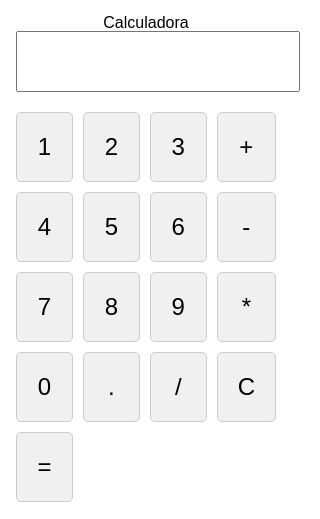
Scenario: Calculator Component › handles number button clicks
The width and height of the screenshot is (320, 519).
Step 1. Click the button "1" → (44, 147), box [16,112,73,182]
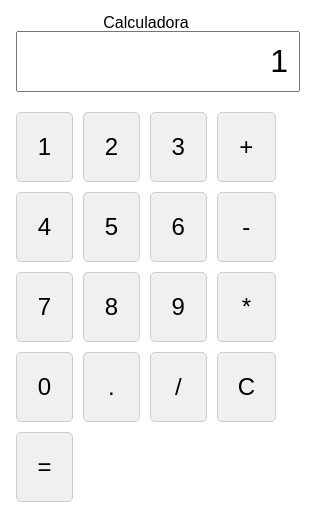
Expected: the field holds "1", [16,31,300,92]
